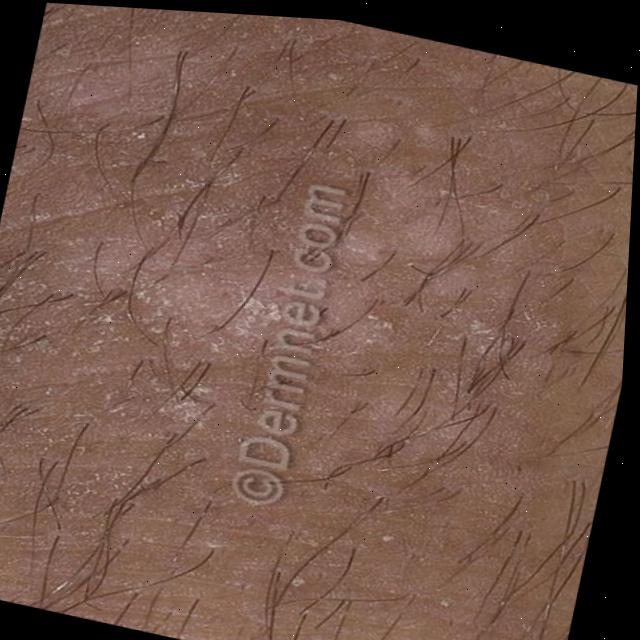Eczema: (18, 74, 489, 437)
